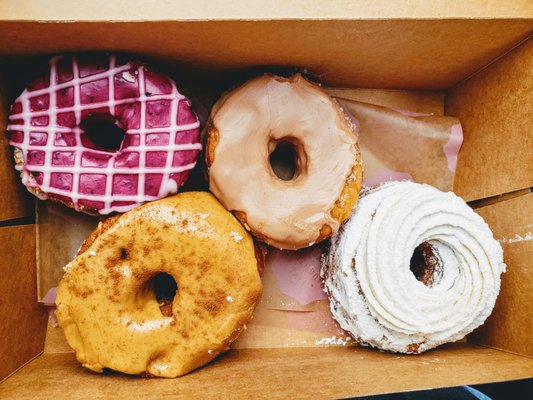salad: (54, 191, 264, 379), (321, 181, 505, 355), (5, 57, 203, 216), (204, 70, 364, 251)
